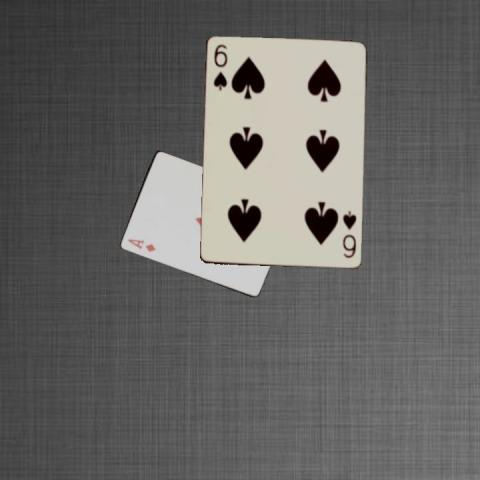6s: (339, 209, 359, 260), (211, 42, 229, 92)
Ad: (125, 236, 156, 253)
